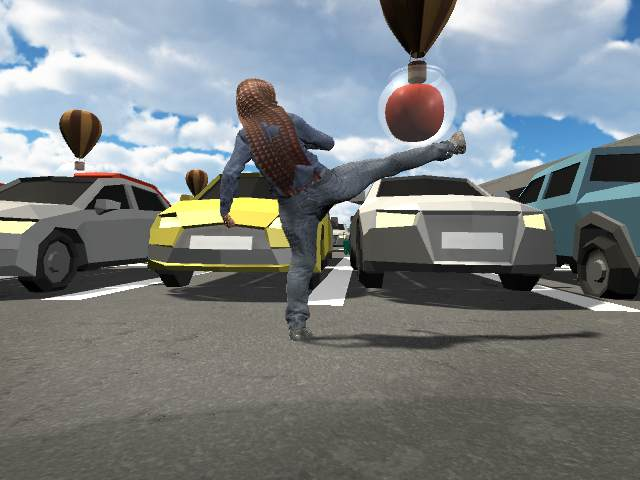turn_right: (217, 79, 468, 344)
